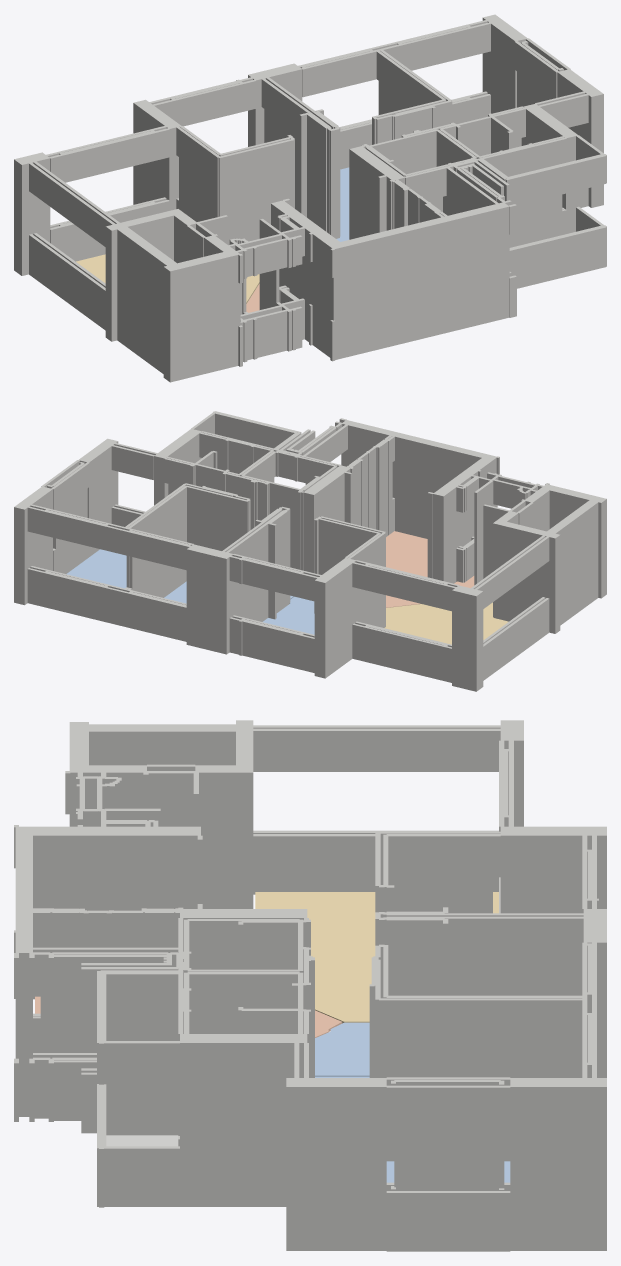
3 renders of one model, top to bottom at view 1: azimuth 30°, elevation 25°; view 2: azimuth 150°, elevation 25°; view 3: azimuth 270°, elevation 25°, orthographic. The views are drawn at different scales.
Parts seen in each view (by area): view 1: walls, room:bedroom:1, room:living:9; view 2: walls, room:living:9, room:kitchen:5, room:bedroom:0, room:bedroom:8; view 3: walls, room:living:9, room:bedroom:8, room:ledge:3.
Part boxes in pixels (<box>): walls: <box>14,14,606,382</box>; room:bedroom:1: <box>336,167,349,241</box>; room:living:9: <box>76,254,259,303</box>; walls: <box>14,411,606,691</box>; room:living:9: <box>384,602,508,644</box>; room:kitchen:5: <box>386,531,474,607</box>; room:bedroom:0: <box>66,549,126,588</box>; room:bedroom:8: <box>263,596,314,634</box>; walls: <box>14,720,606,1251</box>; room:living:9: <box>255,892,498,1023</box>; room:bedroom:8: <box>315,1022,369,1076</box>; room:ledge:3: <box>106,1135,178,1146</box>.
Bounding box in the file's own units: 13.46 × 2.8 × 9.18.
